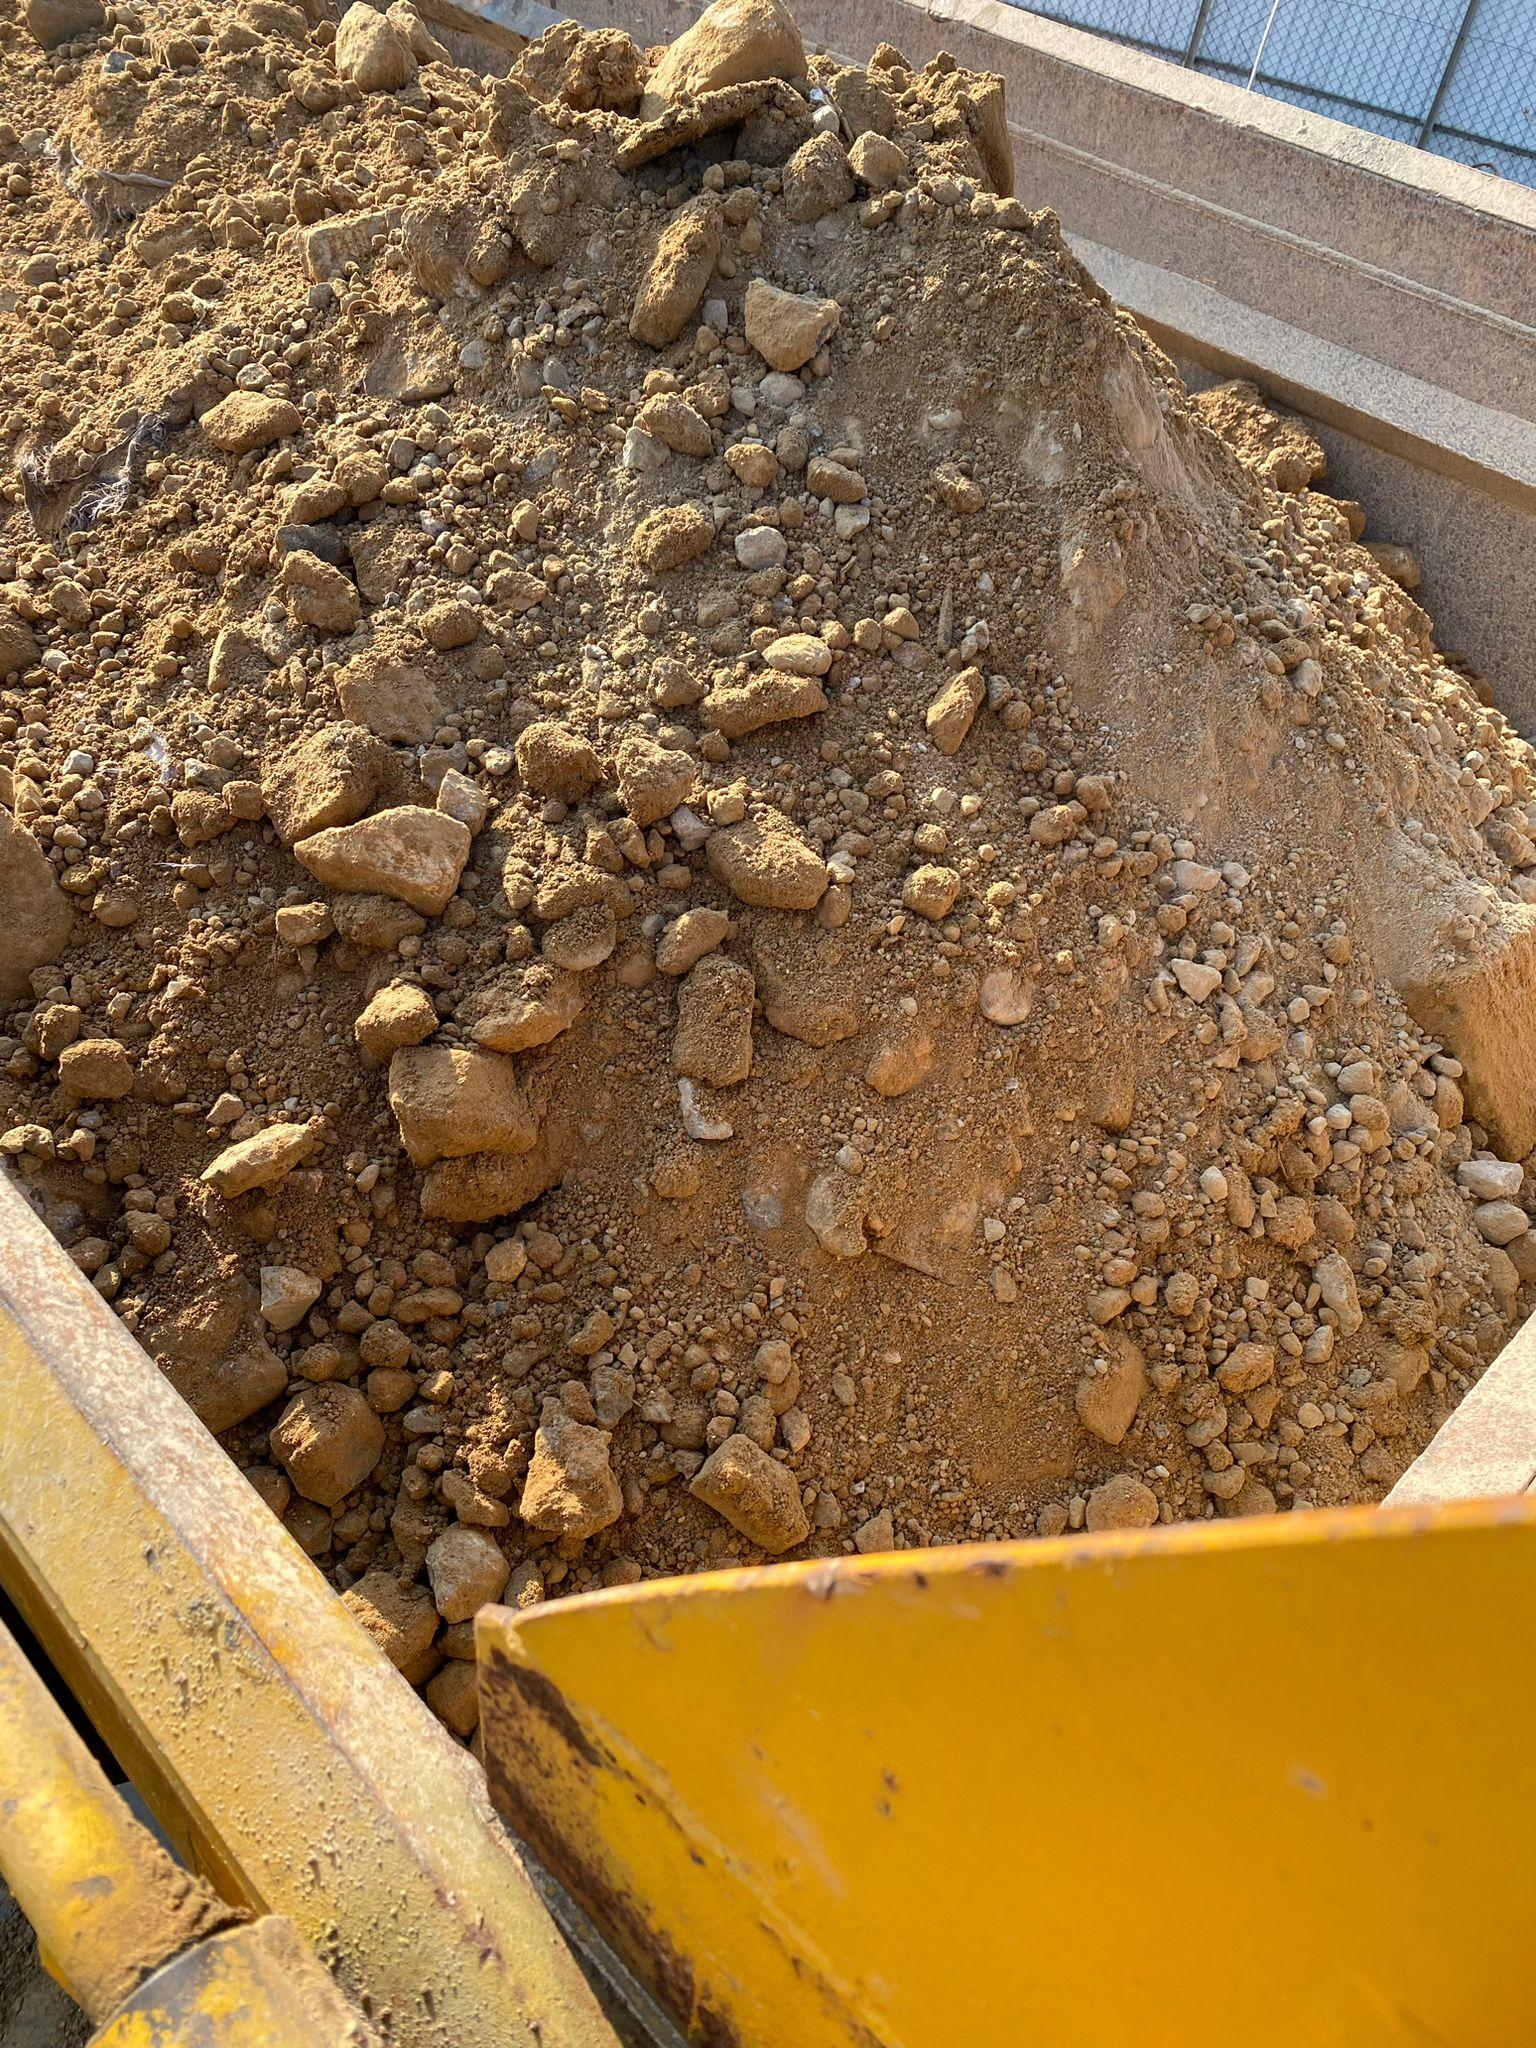dirt: (2, 0, 1533, 1740)
stone: (291, 802, 472, 914)
